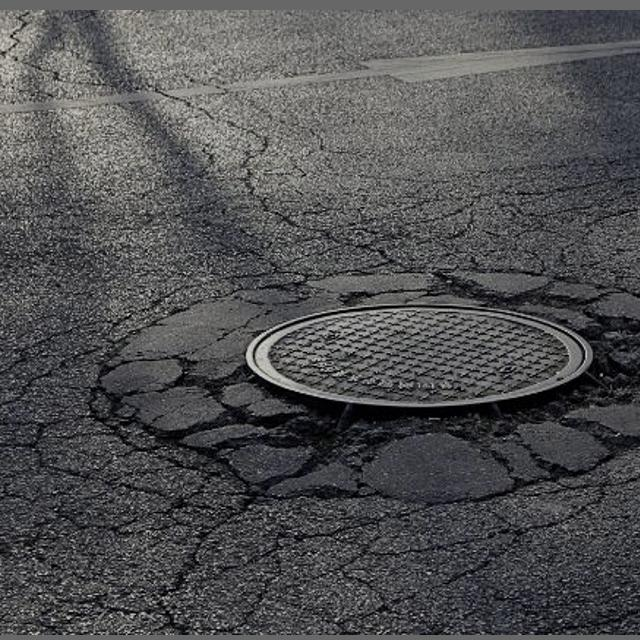circle: (85, 240, 640, 530)
